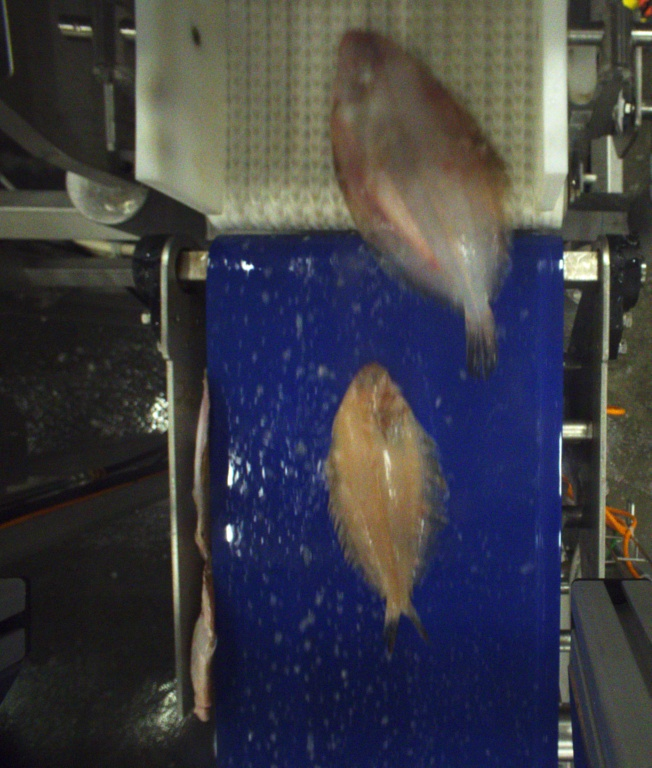WIT: (324, 362, 448, 645)
